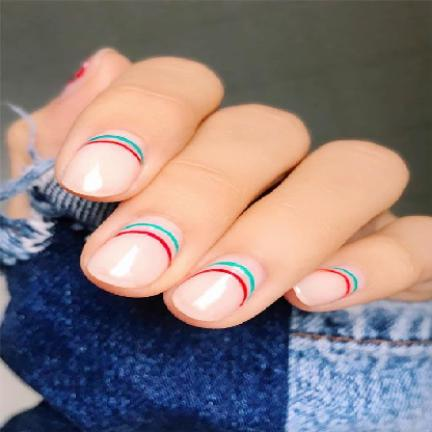Nail: (86, 217, 182, 289), (172, 254, 265, 321), (62, 130, 144, 197), (293, 265, 365, 306)
